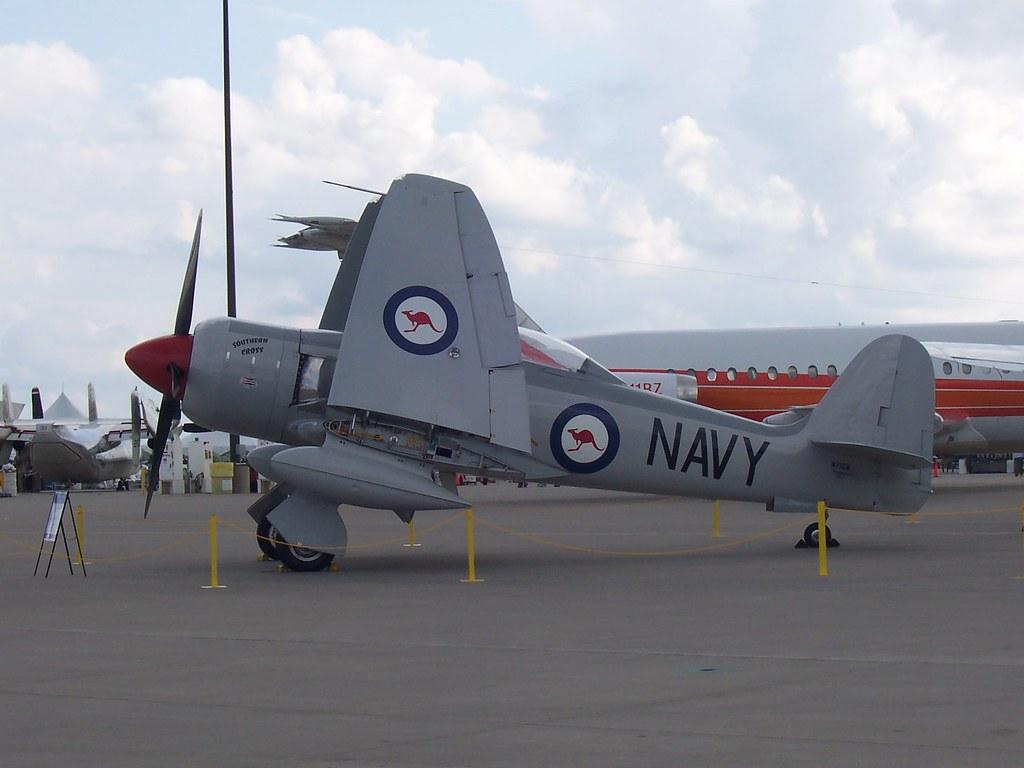plane: (126, 172, 949, 572)
